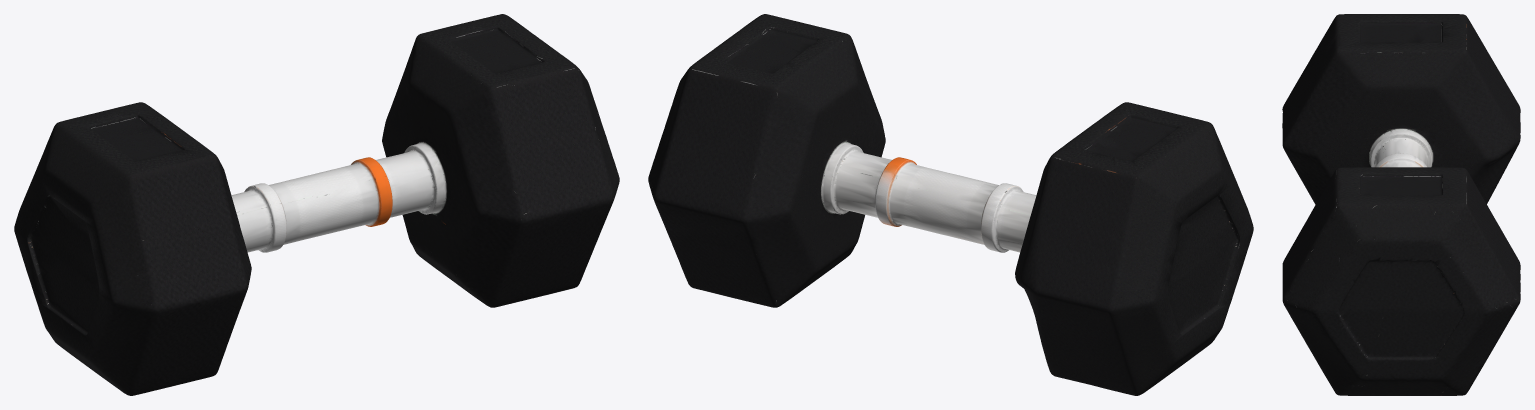
Rendered from dumbbell.glb.
The picture shows the model from 3 angles, left to right: view 1: azimuth 30°, elevation 25°; view 2: azimuth 150°, elevation 25°; view 3: azimuth 270°, elevation 25°; orthographic projection. The views are drawn at different scales.
Visible parts, largest first — view 1: Mesh_0; view 2: Mesh_0; view 3: Mesh_0.
Part boxes in pixels (x1=…): Mesh_0: x1=14, y1=14, x2=619, y2=395; Mesh_0: x1=648, y1=14, x2=1253, y2=395; Mesh_0: x1=1282, y1=14, x2=1520, y2=395.
Bounding box in the file's own units: 1.9 × 0.796 × 0.888.
1 material, 1 textured.
